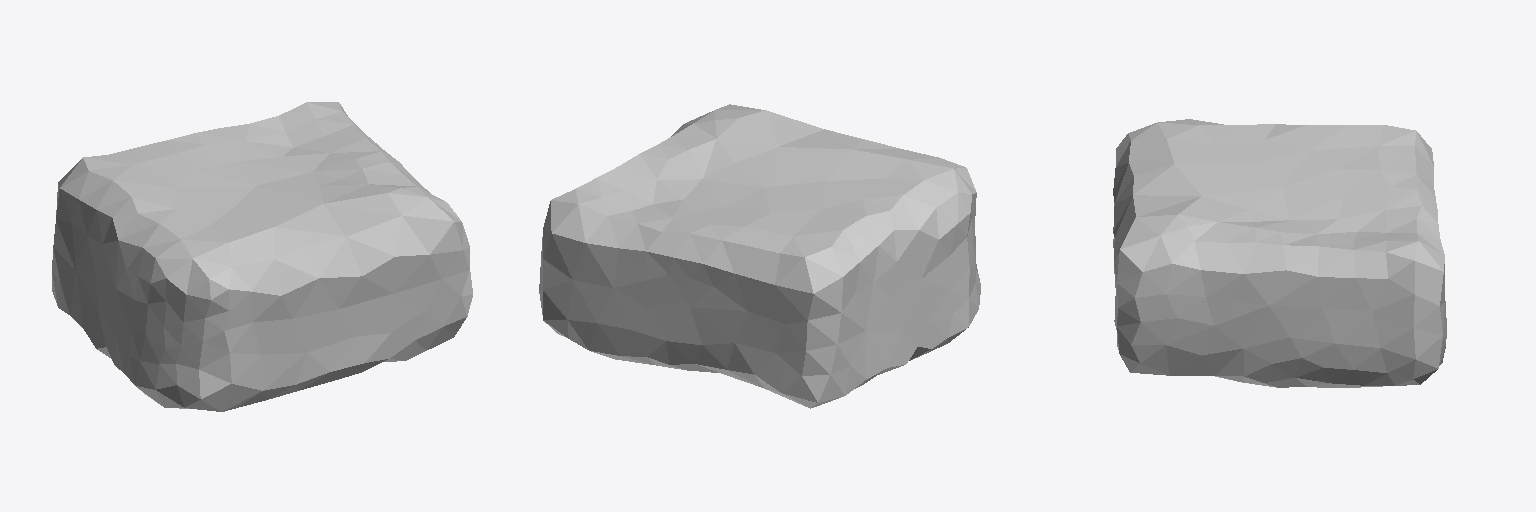
Rendered from StonePlatform_E.obj.
3 views of the same model, side by side, from view 1: azimuth 30°, elevation 25°; view 2: azimuth 150°, elevation 25°; view 3: azimuth 270°, elevation 25° (orthographic).
Parts seen in each view (by area): view 1: StonePlatform_E; view 2: StonePlatform_E; view 3: StonePlatform_E.
Part boxes in pixels (x1,y1,x2,y2): StonePlatform_E: (52, 102, 472, 411); StonePlatform_E: (539, 104, 980, 408); StonePlatform_E: (1113, 119, 1446, 387).
Size of the model in its own units: 10.38 by 4.98 by 9.33.